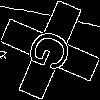G: (25, 25, 83, 80)
